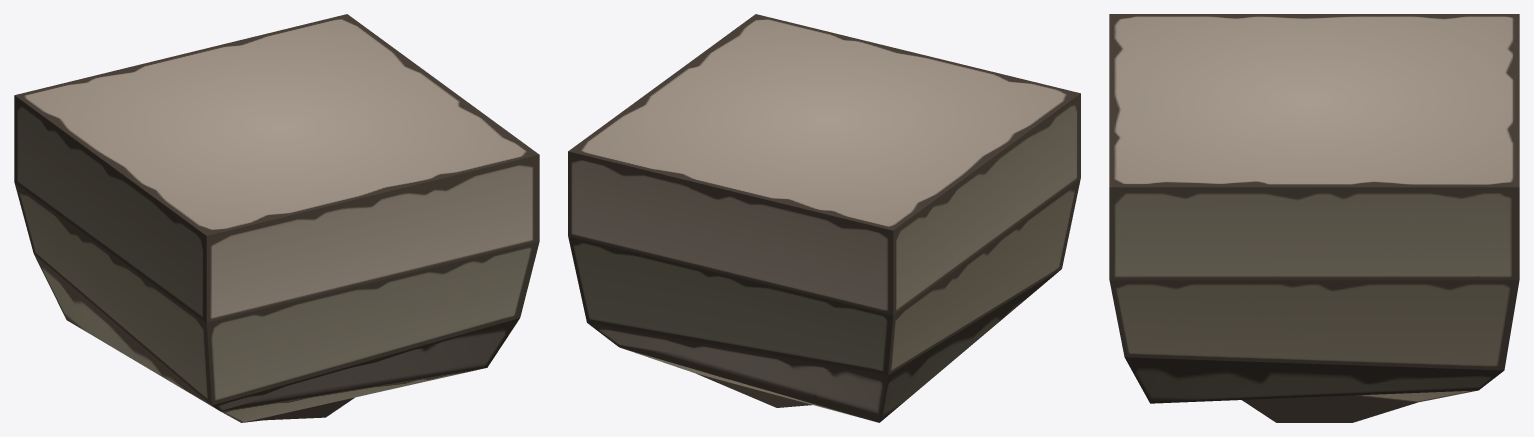
Rendered from TowerStoneCrumblingBlock.fbx.
3 views of the same model, side by side, from view 1: azimuth 30°, elevation 25°; view 2: azimuth 150°, elevation 25°; view 3: azimuth 270°, elevation 25° (orthographic). The views are drawn at different scales.
Visible parts, largest first — view 1: Cube.001; view 2: Cube.001; view 3: Cube.001.
Part boxes in pixels (x1,y1,x2,y2): Cube.001: (14, 14, 539, 422); Cube.001: (568, 14, 1080, 422); Cube.001: (1109, 14, 1519, 422).
Bounding box in the file's own units: 200 × 165 × 200.
